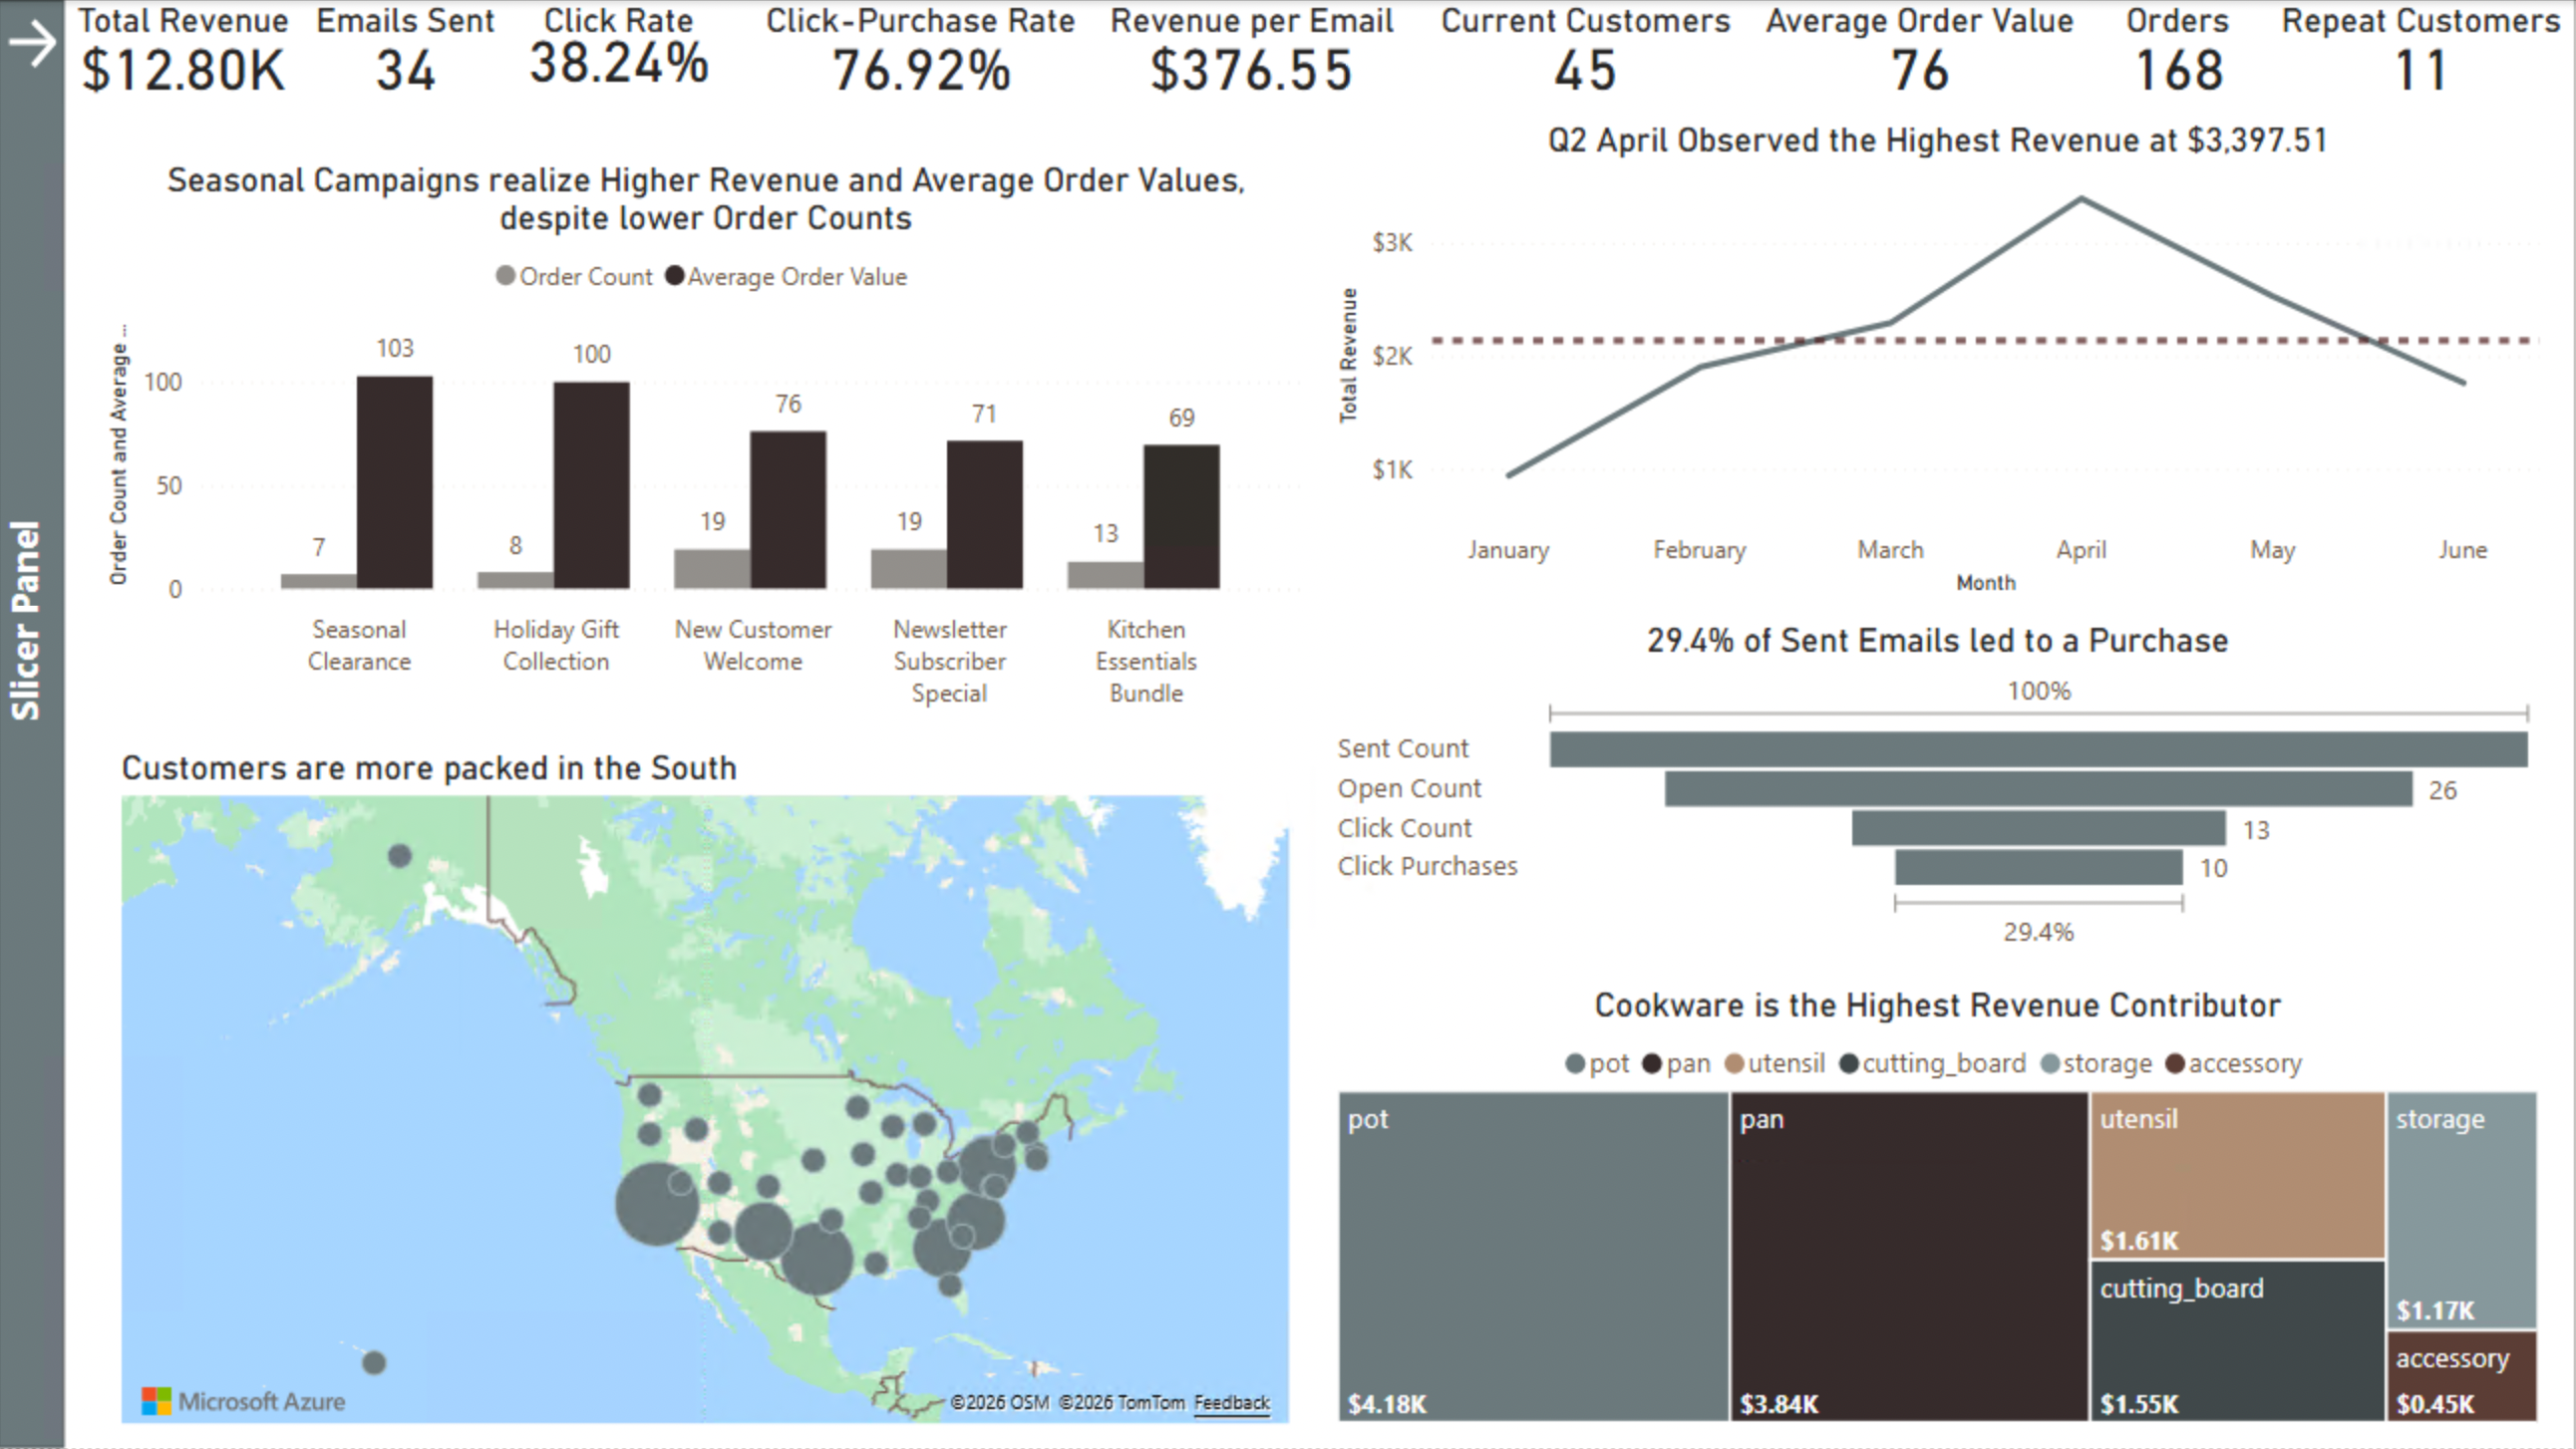

The page's visual inventory and layout, read from the dashboard file:
{"tool":"powerbi","page":{"name":"Page 1","canvas":[1280,720],"ordinal":0},"visuals":[{"type":"clusteredColumnChart","title":"Seasonal Campaigns realize Higher Revenue and Average Order Values, despite lower Order Counts","fields":{"Category":["E_DIM_CAMPAIGN.CAMPAIGN_NAME"],"Y":["CountNonNull(FACT_ITEMSOLD.ORDER_ID)","FACT_ITEMSOLD.Average Order Value"]},"box":[49.5,79.3,604.3,280.4],"z":0},{"type":"lineChart","title":"Q2 April Observed the Highest Revenue at $3,397.51","fields":{"Y":["FACT_ITEMSOLD.Total Revenue"],"Category":["E_DIM_DATE.DATE.Variation.Date Hierarchy.Quarter","E_DIM_DATE.DATE.Variation.Date Hierarchy.Month","E_DIM_DATE.DATE.Variation.Date Hierarchy.Day"]},"box":[671.7,60.4,607.3,240.7],"z":1000},{"type":"kpi","title":"Total Revenue","fields":{"Indicator":["FACT_ITEMSOLD.Total Revenue"],"TrendLine":["E_DIM_DATE.YEAR"]},"box":[33.7,0,116.9,49.5],"z":2000},{"type":"kpi","title":"Average Order Value ","fields":{"Indicator":["FACT_ITEMSOLD.Average Order Value"],"TrendLine":["E_DIM_DATE.YEAR"]},"box":[869.8,0,170.4,49.5],"z":3000},{"type":"funnel","title":"29.4% of Sent Emails led to a Purchase","fields":{"Y":["FACT_EMAILEVENT.Sent Count","FACT_EMAILEVENT.Open Count","FACT_EMAILEVENT.Click Count","FACT_ITEMSOLD.Click Purchases"]},"box":[672.7,315,606.3,168.4],"z":4000},{"type":"treemap","title":"Cookware is the Highest Revenue Contributor","fields":{"Group":["E_DIM_PRODUCT.PRODUCT_TYPE"],"Values":["FACT_ITEMSOLD.Total Revenue"]},"box":[673.7,497.3,606.3,222.9],"z":5000},{"type":"kpi","title":"Orders","fields":{"Indicator":["CountNonNull(FACT_ITEMSOLD.ORDER_ID)"],"TrendLine":["E_DIM_DATE.YEAR"]},"box":[1033.3,0,100.1,49.5],"z":6000},{"type":"kpi","title":"Current Customers","fields":{"Indicator":["CountNonNull(E_DIM_CUSTOMER.CUSTOMER_ID)"],"TrendLine":["E_DIM_DATE.YEAR"]},"box":[708.4,0,161.5,49.5],"z":7000},{"type":"kpi","title":"Repeat Customers","fields":{"TrendLine":["E_DIM_DATE.YEAR"],"Indicator":["FACT_ITEMSOLD.Repeat Customers"]},"box":[1129.4,0,149.6,49.5],"z":8000},{"type":"azureMap","title":"Customers are more packed in the South","fields":{"Category":["E_DIM_CUSTOMER.CUSTOMER_STATE","E_DIM_CUSTOMER.CUSTOMER_CITY","E_DIM_CUSTOMER.CUSTOMER_ZIP"],"Size":["CountNonNull(E_DIM_CUSTOMER.CUSTOMER_ID)"]},"box":[49.5,371.5,590.5,340.8],"z":9000},{"type":"kpi","title":"Emails Sent","fields":{"TrendLine":["E_DIM_DATE.YEAR"],"Indicator":["FACT_EMAILEVENT.Sent Count"]},"box":[150.6,0,104,49.5],"z":10000},{"type":"kpi","title":"Click Rate","fields":{"TrendLine":["E_DIM_DATE.YEAR"],"Indicator":["FACT_EMAILEVENT.Click Rate"]},"box":[254.6,0,108,42.6],"z":11000},{"type":"kpi","title":"Click-Purchase Rate","fields":{"TrendLine":["E_DIM_DATE.YEAR"],"Indicator":["FACT_ITEMSOLD.Click to Purchase Rate"]},"box":[370.5,0,176.3,49.5],"z":12000},{"type":"kpi","title":"Revenue per Email","fields":{"TrendLine":["E_DIM_DATE.YEAR"],"Indicator":["FACT_ITEMSOLD.Revenue per Email"]},"box":[546.9,0,152.6,49.5],"z":13000},{"type":"shape","title":"Slicer Panel","box":[0,0,33.3,719.7],"z":14000},{"type":"actionButton","title":"Open Slicer Panel","box":[0,0,33.3,42.8],"z":16000},{"type":"shape","box":[0,254.4,33.3,106.7],"z":17000}]}

Visuals, with their boxes on the page's 1280x720 design canvas (x1, y1, x2, y2). These are canvas units, not pixel positions in the 2576x1449 screenshot, which may show the page scaled, cropped or inside an application window:
"Seasonal Campaigns realize Higher Revenue and Average Order Values, despite lower Order Counts" clusteredColumnChart: select_region(50, 79, 654, 360)
"Q2 April Observed the Highest Revenue at $3,397.51" lineChart: select_region(672, 60, 1279, 301)
"Total Revenue" kpi: select_region(34, 0, 151, 50)
"Average Order Value " kpi: select_region(870, 0, 1040, 50)
"29.4% of Sent Emails led to a Purchase" funnel: select_region(673, 315, 1279, 483)
"Cookware is the Highest Revenue Contributor" treemap: select_region(674, 497, 1280, 720)
"Orders" kpi: select_region(1033, 0, 1133, 50)
"Current Customers" kpi: select_region(708, 0, 870, 50)
"Repeat Customers" kpi: select_region(1129, 0, 1279, 50)
"Customers are more packed in the South" azureMap: select_region(50, 372, 640, 712)
"Emails Sent" kpi: select_region(151, 0, 255, 50)
"Click Rate" kpi: select_region(255, 0, 363, 43)
"Click-Purchase Rate" kpi: select_region(370, 0, 547, 50)
"Revenue per Email" kpi: select_region(547, 0, 700, 50)
"Slicer Panel" shape: select_region(0, 0, 33, 720)
"Open Slicer Panel" actionButton: select_region(0, 0, 33, 43)
shape: select_region(0, 254, 33, 361)
